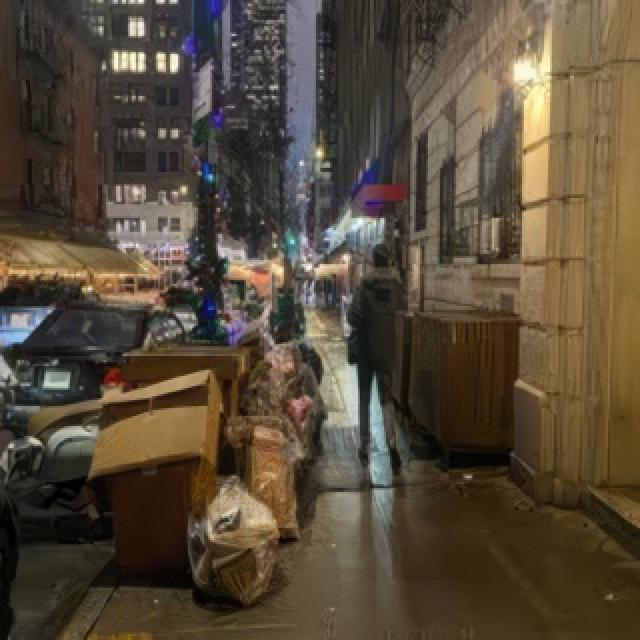high trash: (89, 339, 322, 606)
